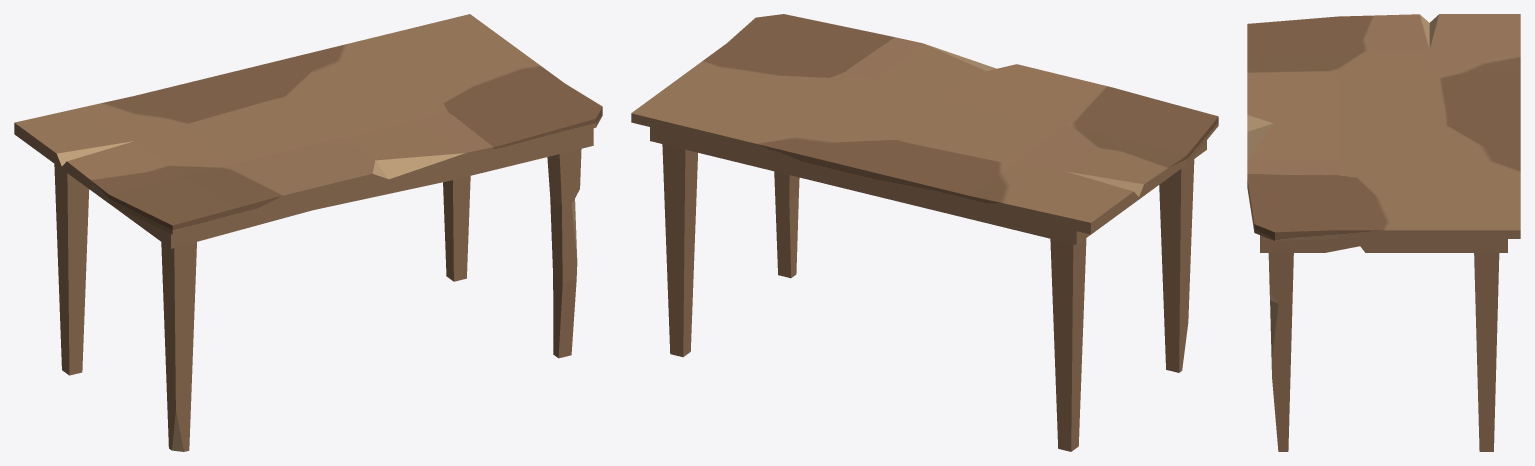
Rendered from SM_Table.gltf.
3 renders of one model, left to right at view 1: azimuth 30°, elevation 25°; view 2: azimuth 150°, elevation 25°; view 3: azimuth 270°, elevation 25°, orthographic. The views are drawn at different scales.
Visible parts, largest first — view 1: SM_Table; view 2: SM_Table; view 3: SM_Table.
Boxes of the visible parts, x1,y1,x2,y2 form: SM_Table: (14,14,602,451); SM_Table: (631,14,1218,451); SM_Table: (1247,14,1520,451).
Size of the model in its own units: 2.06 by 1.05 by 1.1.
Materials: 1 (1 with a texture image).
